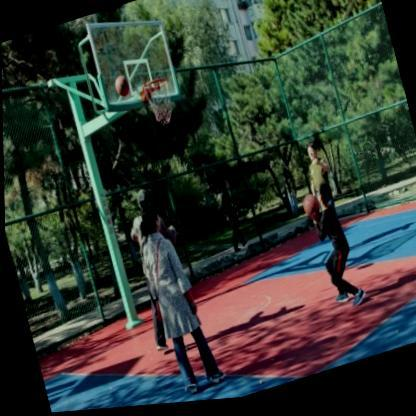basketball: (300, 197, 321, 224), (112, 76, 130, 101)
rim: (141, 79, 178, 131)
